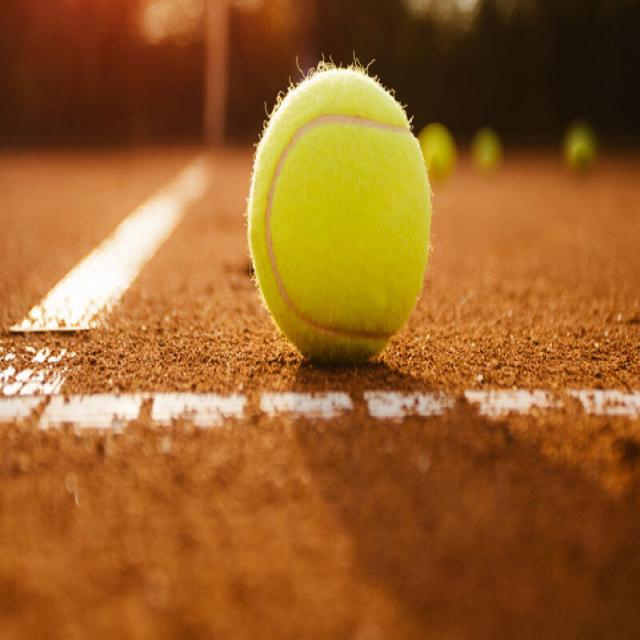Tennis Ball: (249, 70, 431, 364), (418, 124, 459, 180), (562, 123, 601, 179), (469, 127, 506, 175)
